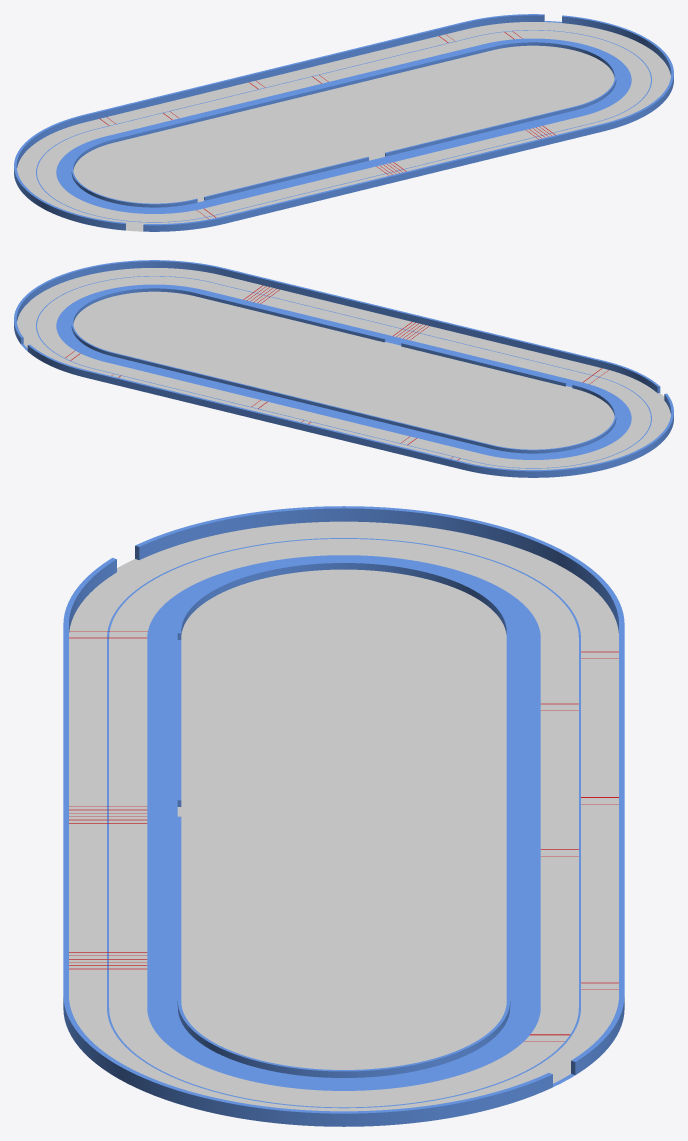
The model's file is Speed_Skating_Rink.glb.
The picture shows the model from 3 angles, top to bottom: view 1: azimuth 30°, elevation 25°; view 2: azimuth 150°, elevation 25°; view 3: azimuth 270°, elevation 25°; orthographic projection. The views are drawn at different scales.
Visible parts, largest first — view 1: Speed_Skating_Rink, Cylinder.002; view 2: Speed_Skating_Rink, Cylinder.002; view 3: Speed_Skating_Rink, Cylinder.002.
Boxes of the visible parts, left/top/right/bottom form: Speed_Skating_Rink: left=14, top=14, right=673, bottom=231; Cylinder.002: left=71, top=41, right=616, bottom=207; Speed_Skating_Rink: left=14, top=260, right=673, bottom=477; Cylinder.002: left=71, top=287, right=616, bottom=453; Speed_Skating_Rink: left=63, top=506, right=624, bottom=1126; Cylinder.002: left=177, top=561, right=510, bottom=1077.
Bounding box in the file's own units: 1.12 × 0.0114 × 0.4389.
